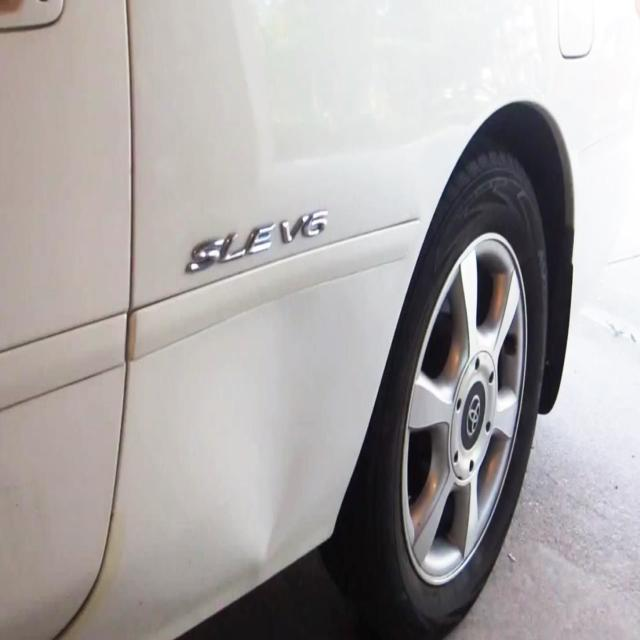dent: (238, 357, 314, 574)
